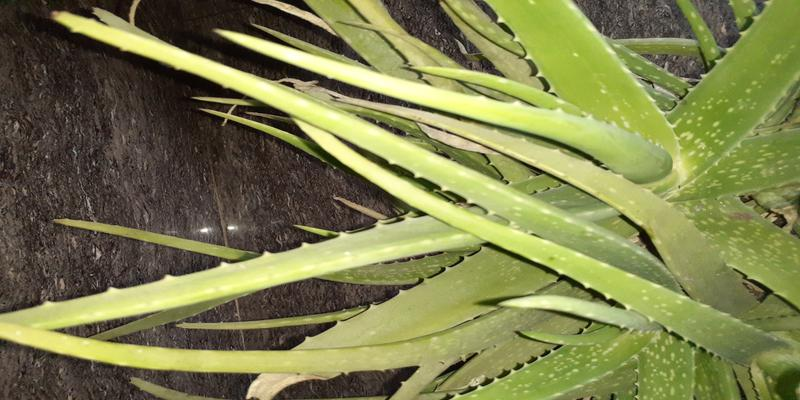Aloevera: (170, 34, 791, 384)
